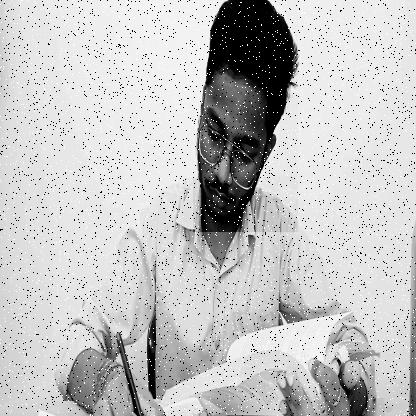Distracted: (193, 0, 298, 232)
